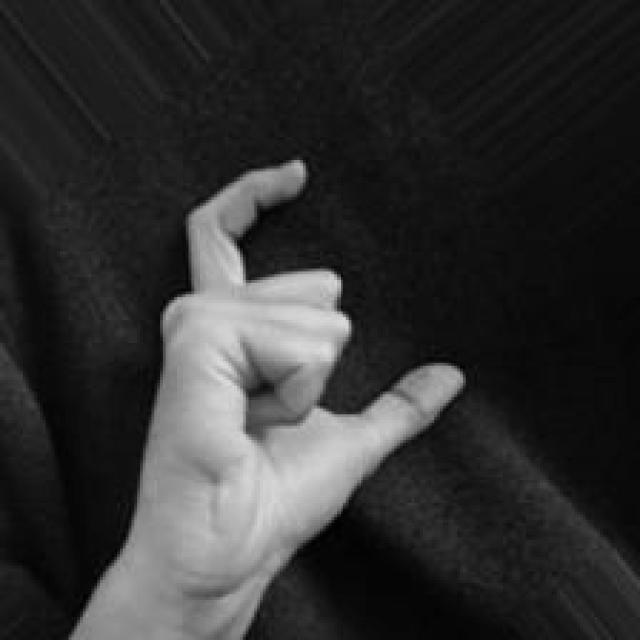C: (138, 155, 466, 595)
